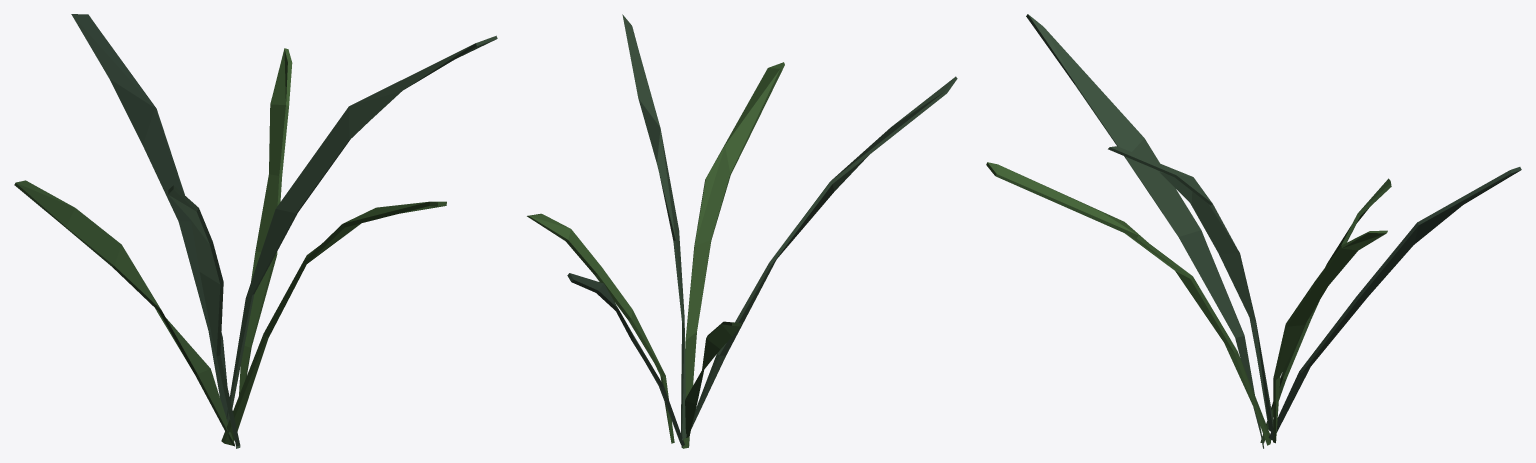
The model's file is Grass_04.glb.
3 views of the same model, side by side, from view 1: azimuth 30°, elevation 25°; view 2: azimuth 150°, elevation 25°; view 3: azimuth 270°, elevation 25° (orthographic). The views are drawn at different scales.
Parts seen in each view (by area): view 1: Grass_04; view 2: Grass_04; view 3: Grass_04.
Boxes of the visible parts, x1,y1,x2,y2 form: Grass_04: [14, 14, 497, 448]; Grass_04: [527, 14, 957, 448]; Grass_04: [986, 14, 1521, 448].
Size of the model in its own units: 1.1 by 1.24 by 1.63.
Materials: 1 (1 with a texture image).
